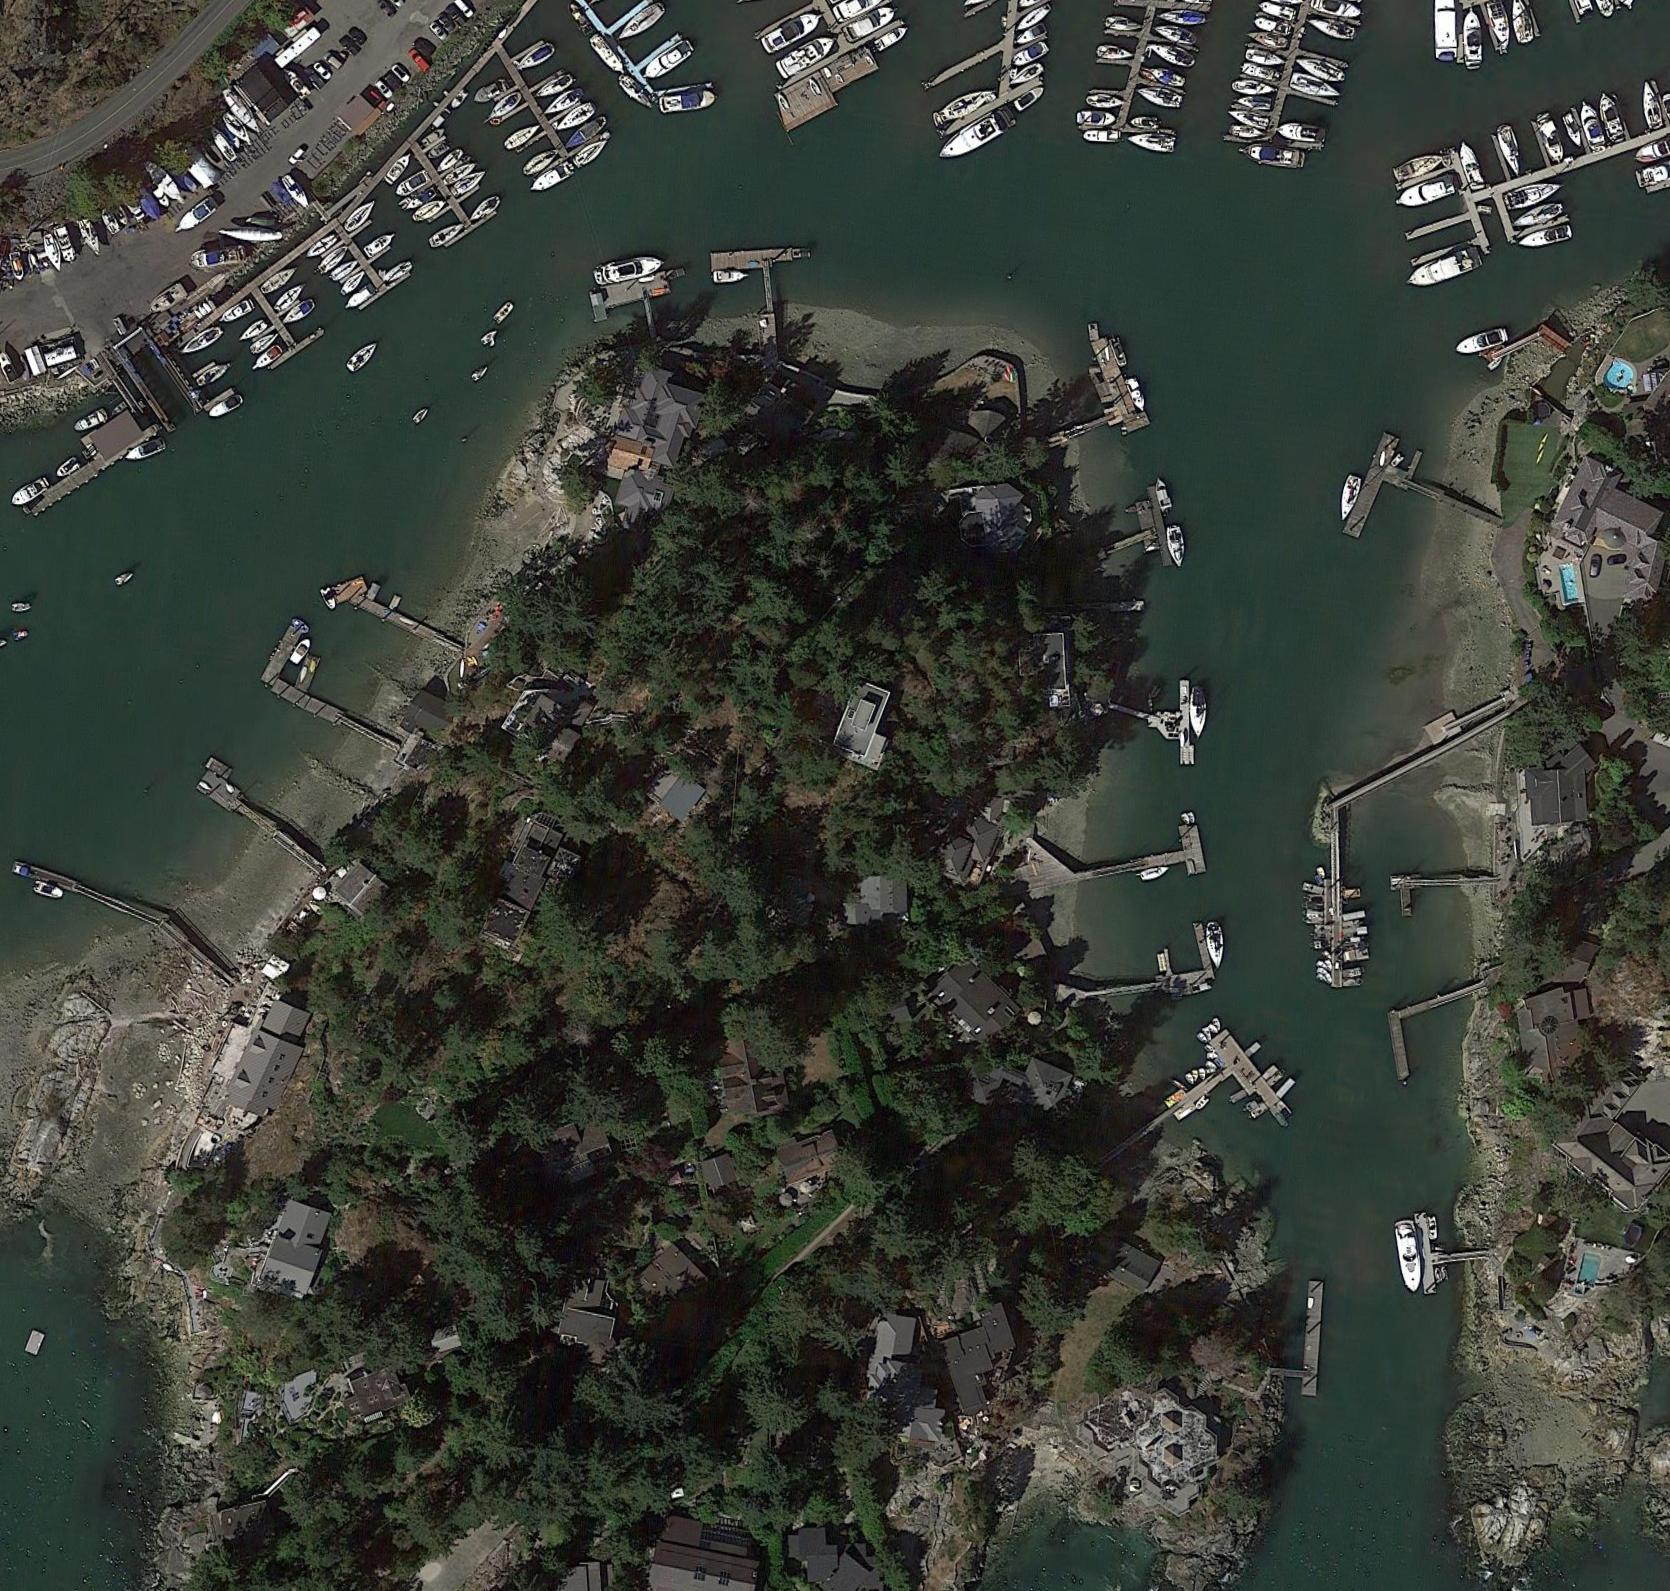harbor: (1376, 75, 1669, 284), (1098, 1029, 1296, 1206), (1217, 1, 1368, 173), (1343, 430, 1495, 580), (915, 2, 1054, 164), (2, 386, 162, 519), (1077, 1, 1214, 156), (256, 625, 418, 752), (472, 32, 606, 181), (576, 1, 715, 125), (730, 1, 907, 89), (1030, 332, 1151, 458), (196, 770, 331, 875), (1298, 805, 1371, 988), (321, 562, 457, 658), (393, 134, 500, 252), (1375, 983, 1501, 1083), (1077, 920, 1216, 1000), (313, 204, 413, 313), (11, 861, 165, 930), (227, 267, 326, 372), (1071, 823, 1207, 895), (590, 268, 699, 351), (712, 249, 816, 330), (153, 321, 236, 421), (1108, 681, 1195, 769), (1414, 1205, 1492, 1297), (1099, 486, 1174, 581), (1267, 1280, 1325, 1398), (1490, 308, 1571, 391), (1391, 874, 1491, 917)
ship: (935, 104, 1018, 165), (775, 31, 839, 80), (1404, 249, 1474, 293), (761, 8, 825, 56), (640, 36, 696, 84), (614, 1, 668, 46), (1394, 174, 1457, 212), (841, 2, 898, 44), (938, 85, 997, 125), (591, 254, 665, 285), (1393, 1219, 1424, 1292), (220, 85, 264, 135), (1504, 176, 1564, 212), (586, 31, 629, 78), (561, 113, 610, 154), (1240, 141, 1307, 169), (141, 158, 183, 202), (172, 196, 218, 236), (1509, 200, 1565, 232), (1294, 53, 1349, 85), (1534, 111, 1567, 164), (1392, 151, 1446, 183), (527, 160, 575, 196), (1287, 71, 1344, 101), (1454, 327, 1508, 358), (615, 72, 656, 112), (1578, 100, 1608, 154), (571, 134, 613, 172), (1519, 223, 1574, 252), (7, 475, 51, 511), (1595, 94, 1626, 145), (179, 324, 225, 358), (342, 195, 380, 236), (542, 85, 586, 120), (1457, 140, 1486, 193), (1148, 39, 1199, 69), (1486, 1, 1517, 50), (1495, 123, 1523, 177), (146, 281, 189, 316), (555, 100, 598, 135), (343, 337, 382, 375), (448, 165, 490, 200), (1307, 13, 1358, 41), (220, 110, 256, 149), (1337, 472, 1365, 522), (188, 245, 246, 269), (660, 90, 718, 114), (1639, 79, 1666, 130), (532, 72, 576, 103), (484, 90, 525, 123), (206, 122, 239, 163), (501, 120, 542, 153), (514, 42, 556, 74), (1136, 83, 1184, 111), (1435, 1, 1457, 62), (1141, 62, 1188, 90), (272, 279, 309, 314), (259, 264, 298, 297), (520, 146, 560, 178), (316, 241, 352, 276), (281, 296, 319, 329), (1014, 2, 1053, 34), (1151, 21, 1199, 47), (1508, 1, 1536, 45), (133, 182, 163, 223), (1128, 130, 1179, 154), (124, 436, 167, 464), (206, 392, 246, 422), (466, 193, 503, 225), (1279, 120, 1328, 144), (410, 196, 449, 226), (426, 221, 465, 251), (383, 151, 415, 187), (280, 174, 312, 210), (1012, 82, 1048, 114), (362, 228, 399, 259), (247, 343, 284, 374), (441, 159, 480, 188), (471, 77, 510, 106), (281, 67, 313, 102), (76, 217, 104, 257), (342, 282, 378, 313), (1012, 40, 1050, 69), (1463, 10, 1483, 65), (565, 1, 596, 36), (1008, 60, 1045, 89), (873, 24, 910, 53), (71, 407, 109, 435), (194, 360, 232, 388), (1205, 920, 1226, 970), (1227, 106, 1270, 130), (41, 232, 65, 273), (53, 223, 78, 262), (1165, 524, 1187, 568), (1247, 29, 1291, 51), (1252, 14, 1294, 37), (1189, 684, 1207, 737), (405, 185, 439, 213), (218, 300, 254, 326), (1561, 112, 1586, 149), (306, 233, 339, 261), (381, 259, 415, 286), (247, 329, 281, 356), (338, 268, 368, 298), (1123, 376, 1148, 412), (434, 146, 465, 175), (1245, 48, 1286, 69), (328, 258, 360, 284), (1015, 22, 1048, 47), (238, 318, 269, 344), (147, 181, 173, 212), (1259, 1, 1297, 22), (1232, 80, 1278, 97), (288, 636, 314, 666), (1242, 61, 1281, 81), (100, 204, 123, 237), (53, 455, 82, 481), (1108, 336, 1130, 369), (419, 125, 448, 150), (1156, 10, 1207, 24), (1153, 477, 1173, 512), (32, 880, 66, 900), (1077, 110, 1116, 127), (1105, 17, 1144, 33), (492, 300, 515, 326), (1229, 124, 1266, 140), (1096, 45, 1135, 60), (1236, 94, 1272, 110), (425, 140, 451, 162), (1085, 94, 1124, 108), (1082, 130, 1121, 144), (1139, 865, 1171, 882), (320, 585, 340, 612), (9, 252, 27, 282), (713, 270, 749, 284), (111, 201, 131, 226), (432, 107, 453, 129), (289, 615, 312, 635), (450, 88, 470, 111), (1130, 116, 1159, 130), (411, 405, 431, 425), (114, 570, 136, 588), (480, 328, 500, 347), (110, 399, 129, 418), (470, 365, 490, 383), (806, 77, 822, 97), (1192, 1096, 1211, 1112), (1427, 1215, 1439, 1240), (776, 92, 791, 112), (1390, 453, 1405, 469), (11, 629, 29, 642), (11, 602, 32, 613), (931, 111, 943, 128), (1433, 1268, 1444, 1285), (1200, 1028, 1213, 1042), (1314, 864, 1326, 879), (1195, 1032, 1208, 1045), (192, 309, 205, 322), (1183, 1072, 1195, 1086), (207, 298, 219, 312), (1211, 1018, 1223, 1031), (1178, 812, 1190, 825), (202, 302, 214, 315), (1186, 810, 1197, 824), (1440, 1266, 1449, 1283), (1203, 1060, 1218, 1070), (198, 305, 209, 318), (1207, 1023, 1218, 1035), (1198, 1068, 1208, 1081), (1190, 1069, 1199, 1081), (1205, 1052, 1217, 1060), (1205, 1068, 1215, 1074)
